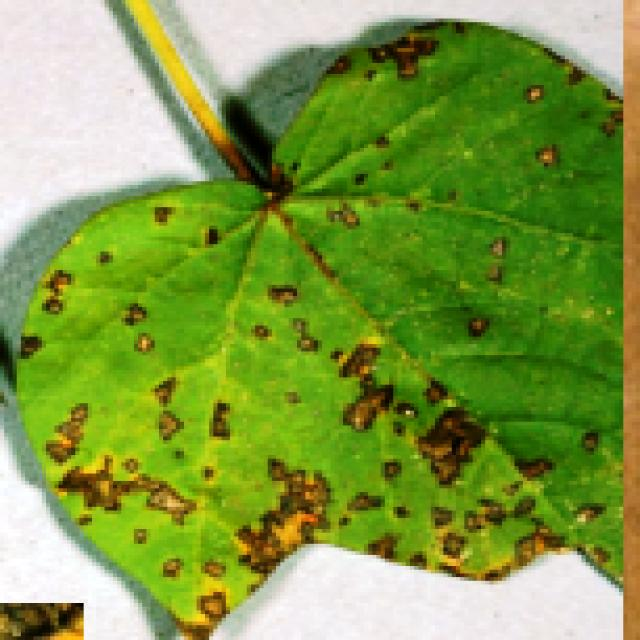Bacterial Blight: (58, 277, 640, 588)
